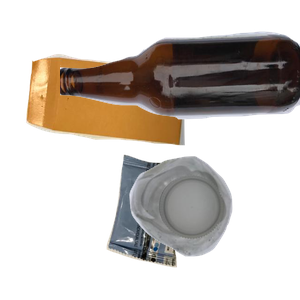glass: (60, 29, 300, 141)
paper: (23, 51, 206, 189)
plastic: (127, 154, 300, 300)
trash: (104, 152, 280, 300)
